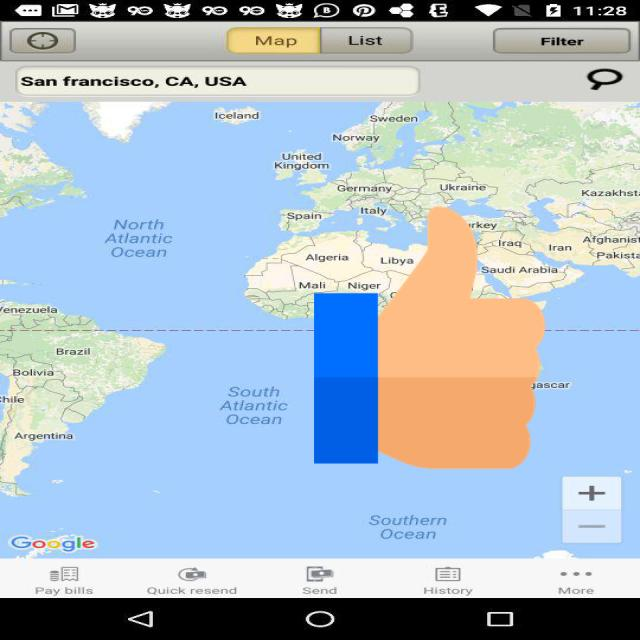privacy zuckering: (314, 200, 545, 475)
